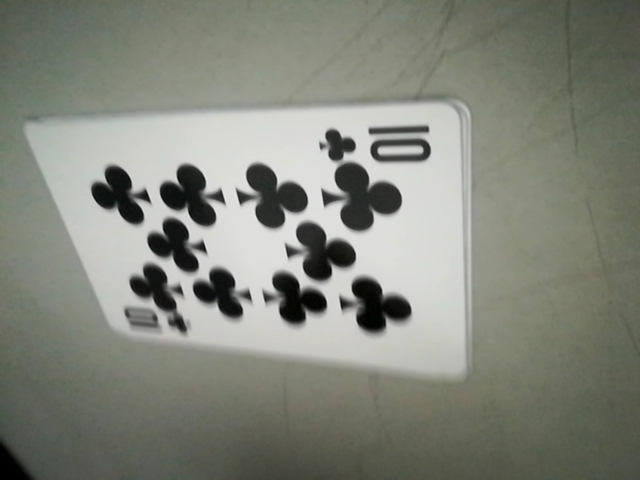mh 10: (321, 117, 444, 168)
